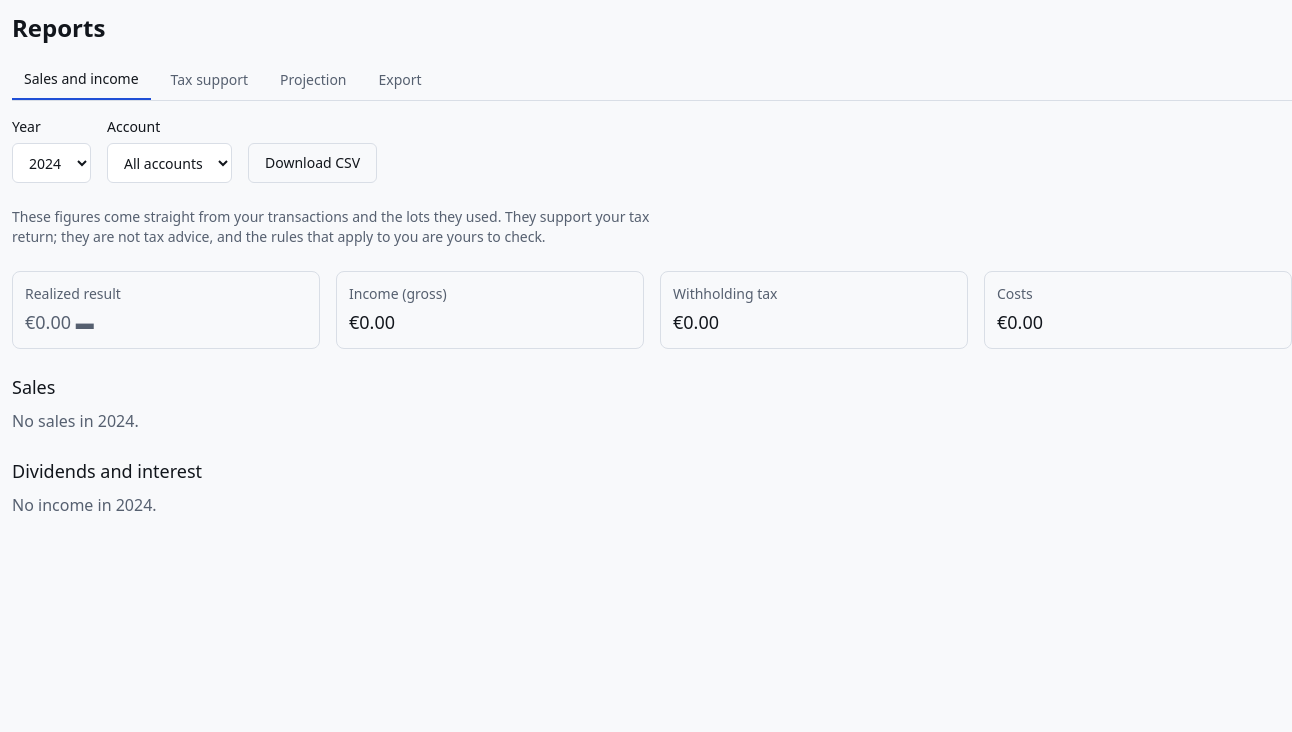
it: the tabs › opens on the realized result and switches
Expected: the text "Realized result" is shown, x1=25 y1=284 x2=121 y2=303
Click the tab "Export": x=400, y=80 x1=366 y1=60 x2=434 y2=100
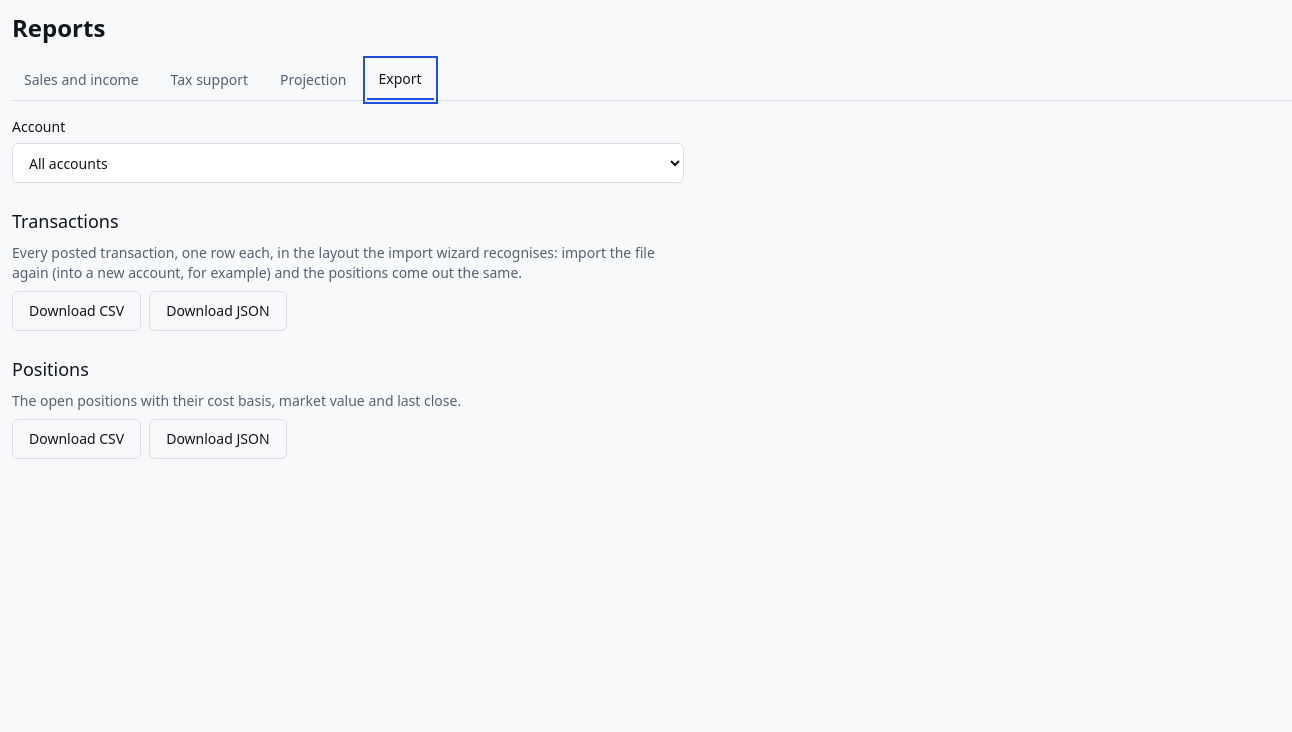
Expected: the heading "Positions" is shown, x1=12 y1=357 x2=89 y2=381
